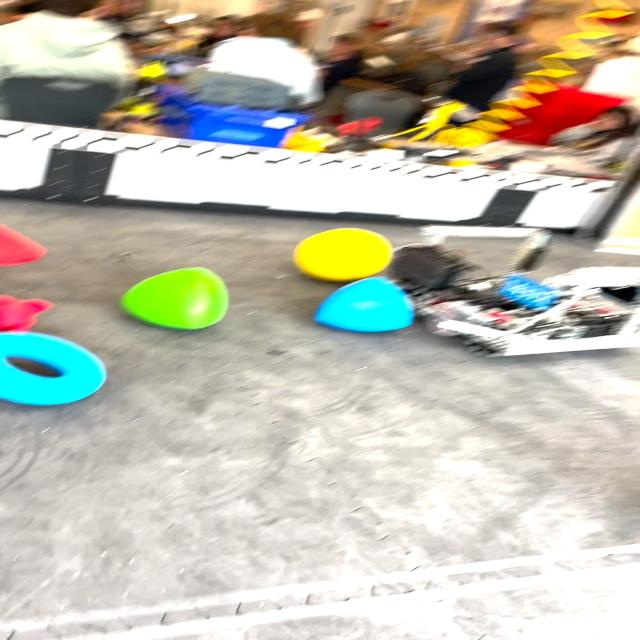Blue-Ring: (0, 332, 107, 405)
